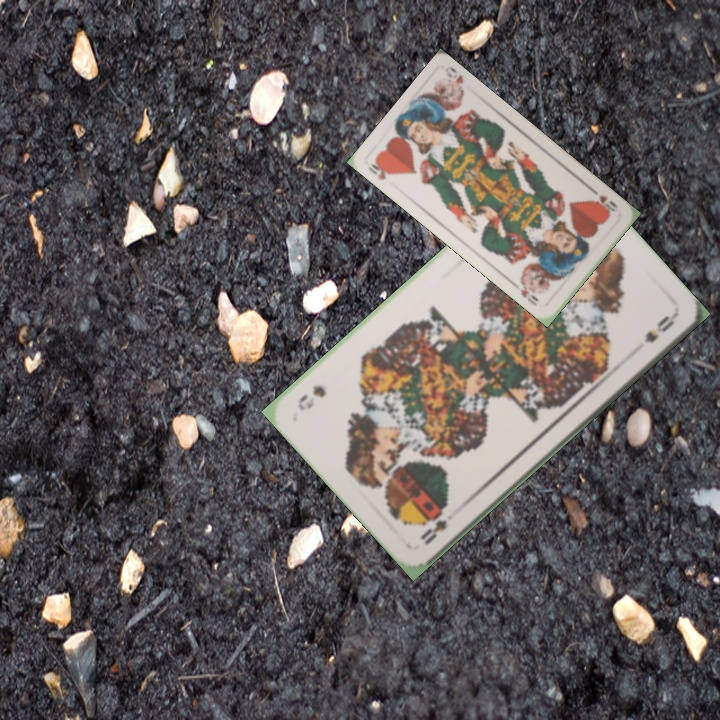HO: (587, 184, 620, 217), (363, 155, 395, 183)
SO: (415, 508, 450, 548)
